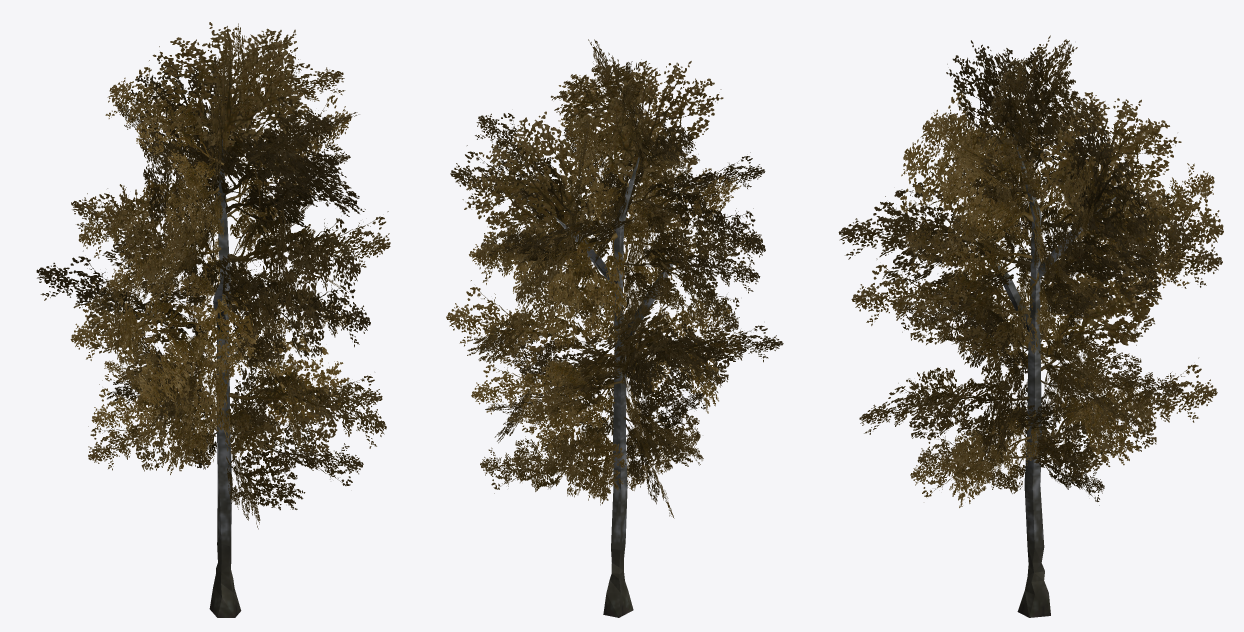
The model's file is forest_birch.glb.
The picture shows the model from 3 angles, left to right: view 1: azimuth 30°, elevation 25°; view 2: azimuth 150°, elevation 25°; view 3: azimuth 270°, elevation 25°; orthographic projection. The views are drawn at different scales.
Bounding box in the file's own units: 3.35 × 6 × 3.87.
2 materials, 2 textured.
